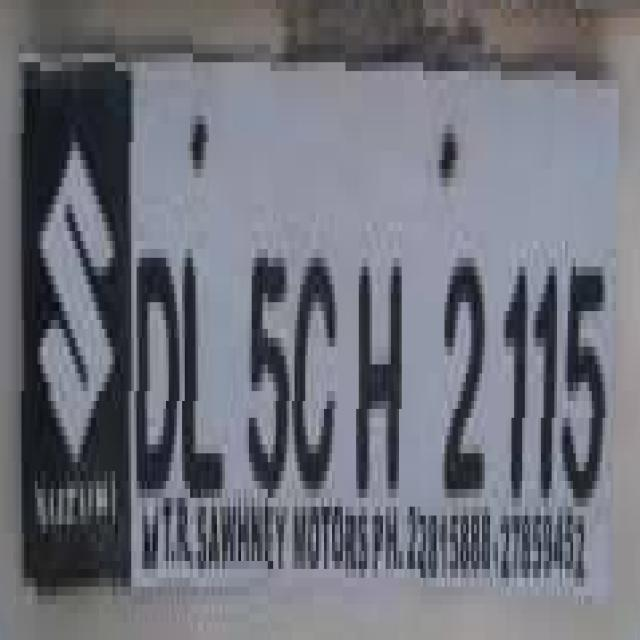license_plate: (27, 71, 640, 587)
